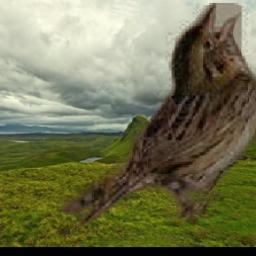Sparrow: (57, 3, 256, 226)
